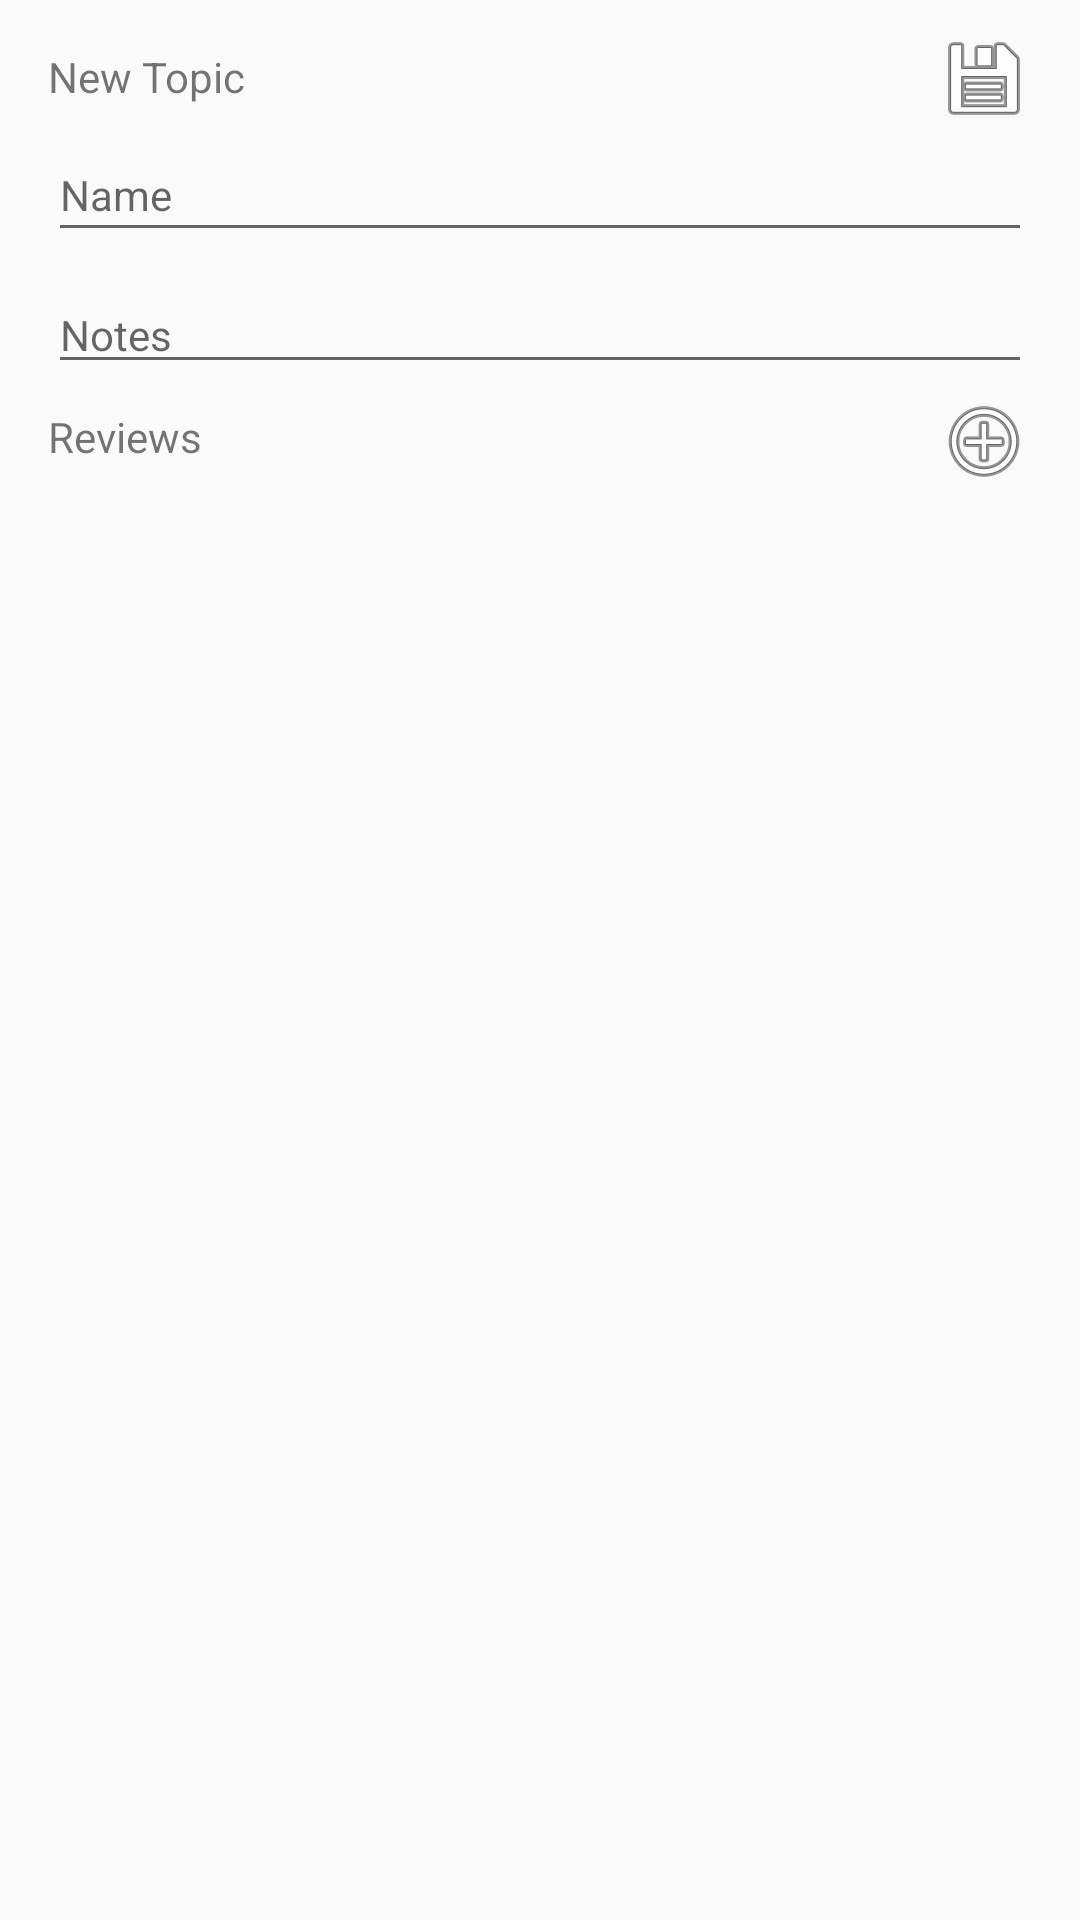

Point at icon controls on the screen. Image size 1080px×1920px, points as (x,y).
add: (984,441)
save: (984,78)
